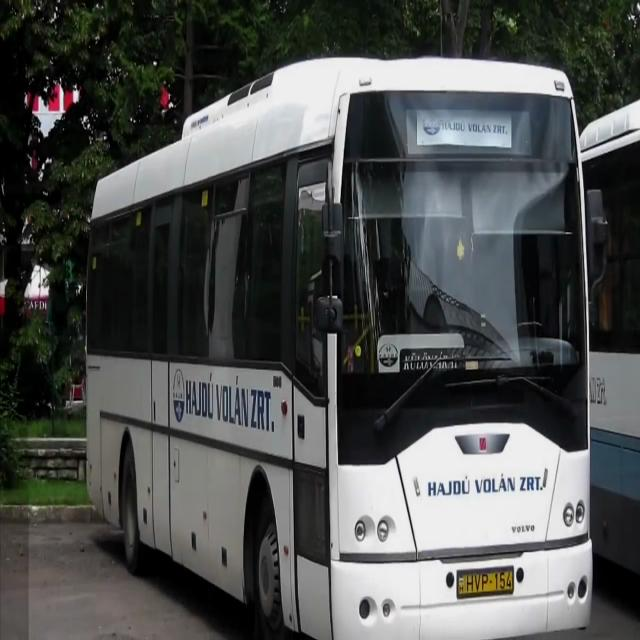bus: (82, 51, 601, 640)
